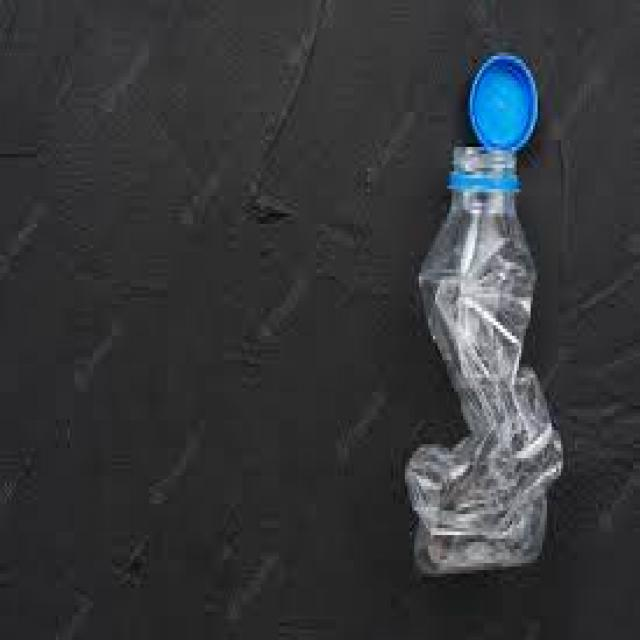Botella Plastica: (408, 147, 565, 581)
